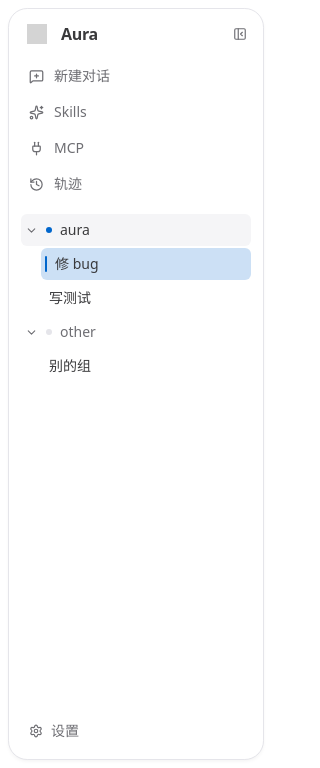
Sidebar › 点工作区行只展开折叠，不切换工作区
Click the button "aura".
click(136, 230)  # box top-left (21, 214), bottom-right (251, 246)
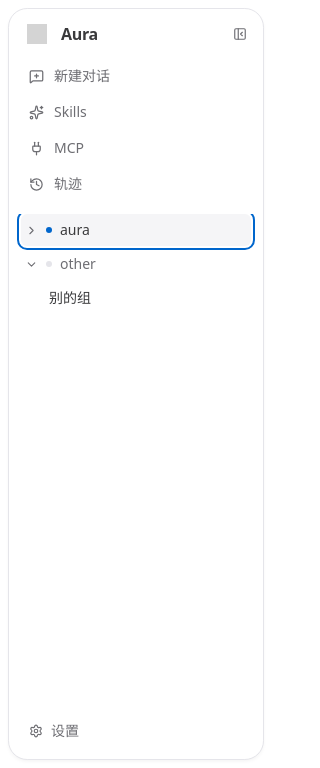
Now the button "写测试" is gone
